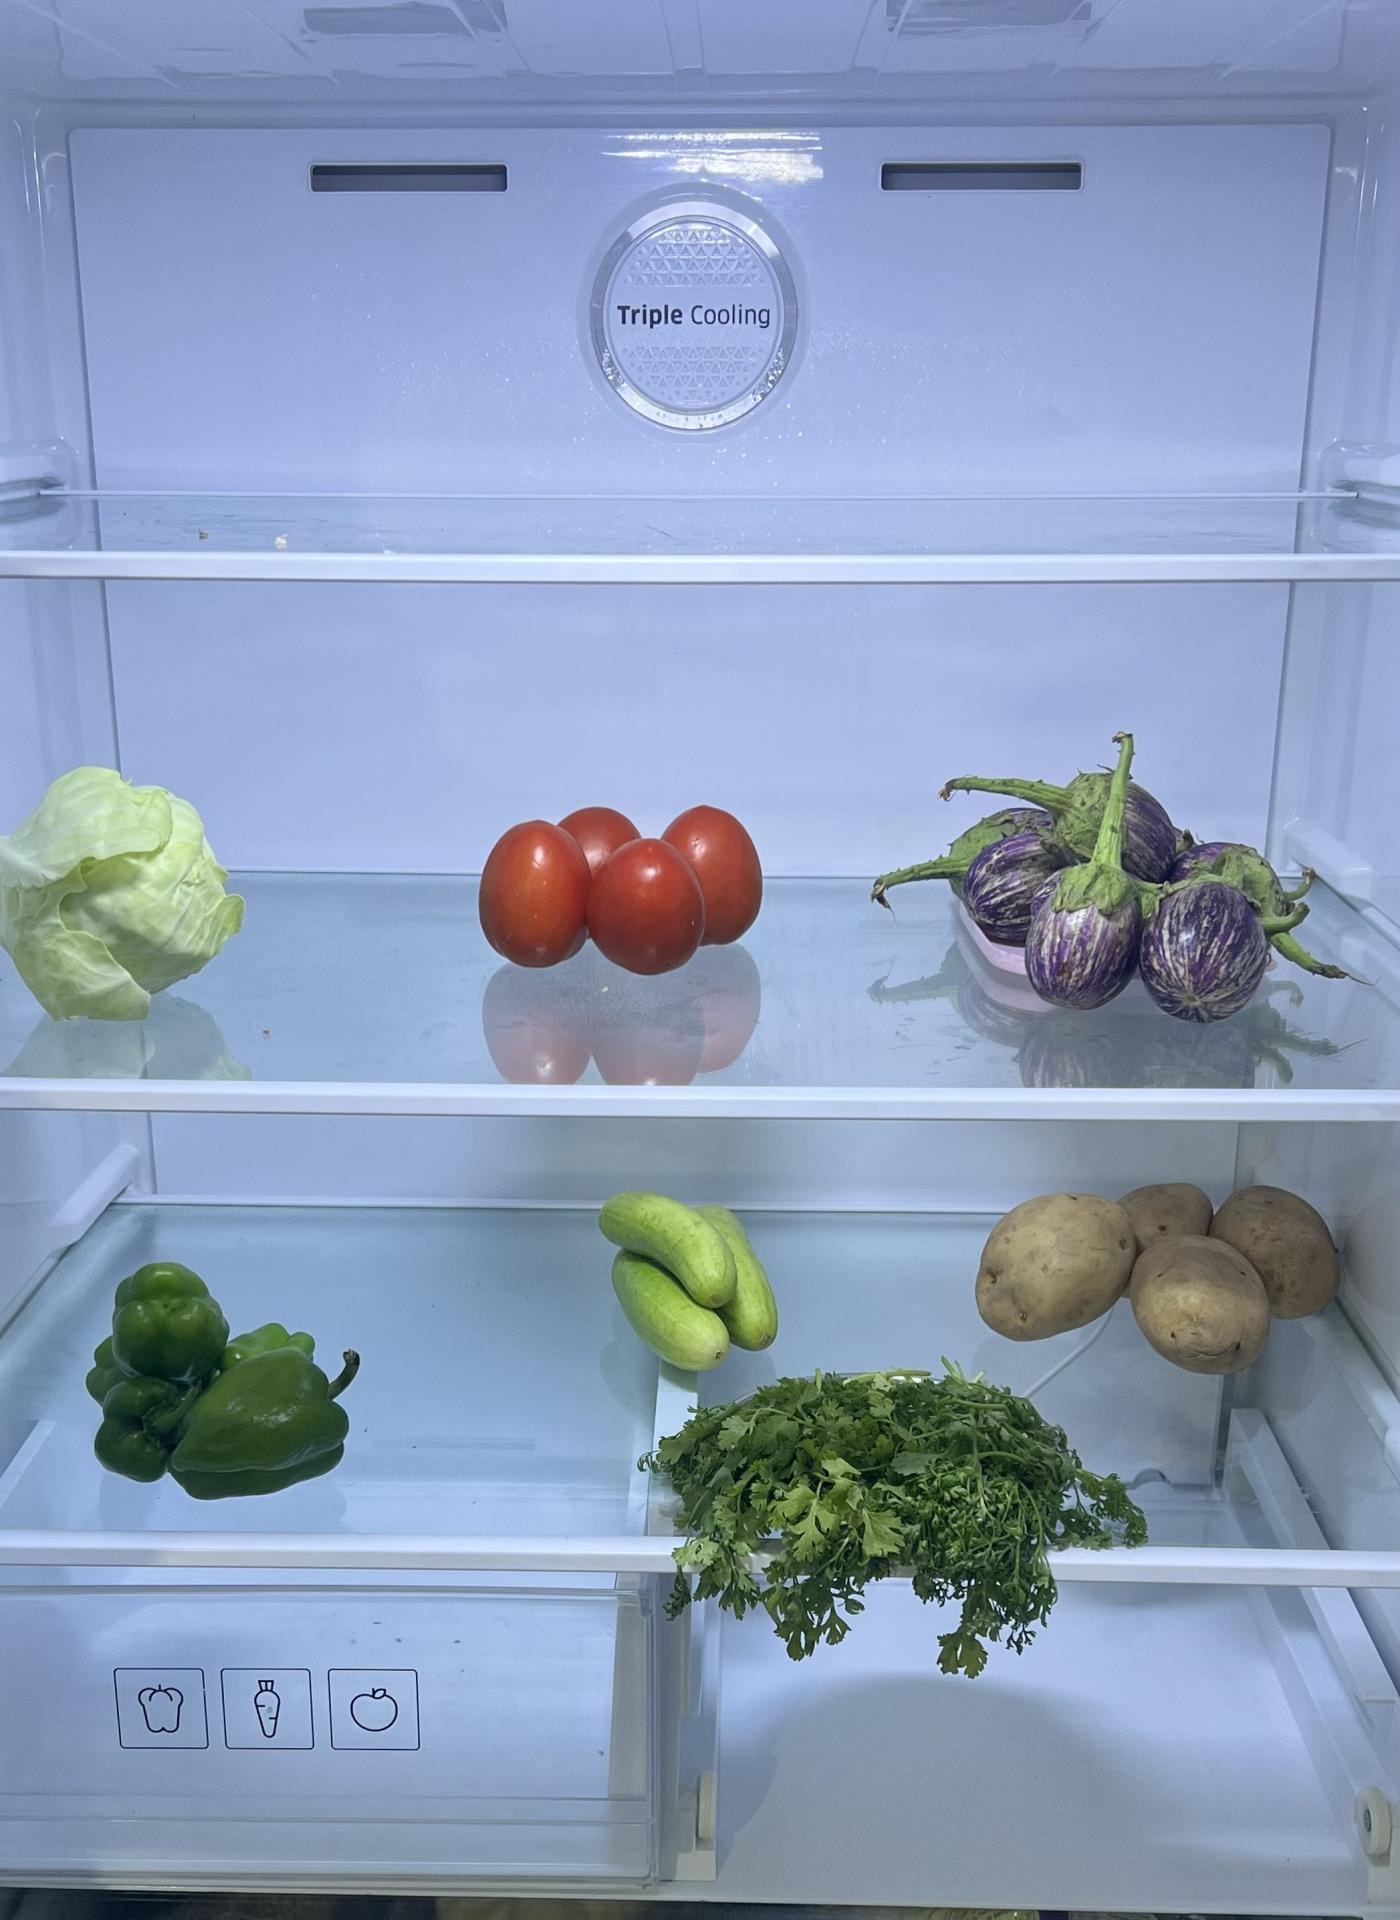brinjal: (945, 760, 1278, 1027)
cabbage: (1, 765, 245, 1024)
capsicum: (82, 1269, 356, 1503)
coriander: (660, 1367, 1132, 1628)
cucumber: (602, 1187, 781, 1370)
potato: (972, 1181, 1348, 1370)
tomato: (479, 793, 768, 969)
